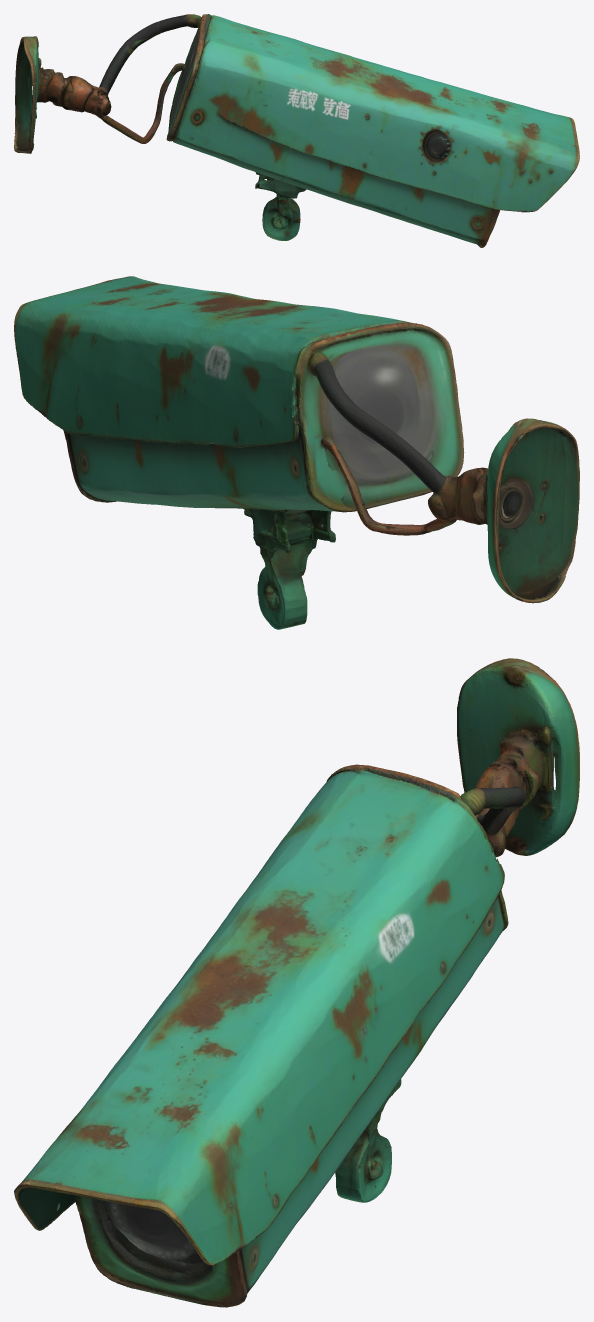
File: Green_rusty_industria_0423201428_texture.fbx
3 views of the same model, one above another, from view 1: azimuth 30°, elevation 25°; view 2: azimuth 150°, elevation 25°; view 3: azimuth 270°, elevation 25° (orthographic). The views are drawn at different scales.
Parts seen in each view (by area): view 1: temp; view 2: temp; view 3: temp.
Boxes of the visible parts, <box> form: temp: <box>14,14,579,247</box>; temp: <box>14,276,579,629</box>; temp: <box>14,658,579,1307</box>.
Size of the model in its own units: 200 by 91.96 by 128.
1 material, 1 textured.
